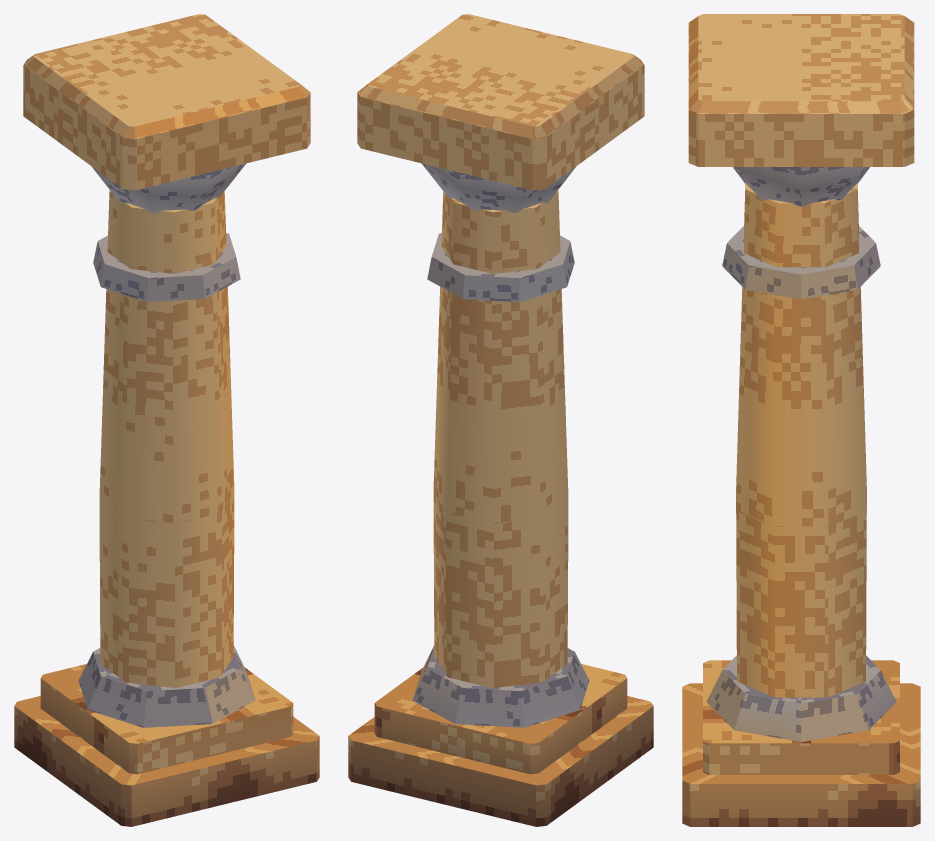
The model's file is ruin.column.glb.
3 renders of one model, left to right at view 1: azimuth 30°, elevation 25°; view 2: azimuth 150°, elevation 25°; view 3: azimuth 270°, elevation 25°, orthographic. The views are drawn at different scales.
Parts seen in each view (by area): view 1: kit_shaft, kit_capital, kit_plinth, kit_base, kit_ring; view 2: kit_shaft, kit_capital, kit_plinth, kit_base, kit_ring; view 3: kit_shaft, kit_capital, kit_plinth, kit_base, kit_ring.
Boxes of the visible parts, x1=… form: kit_shaft: x1=99, y1=191, x2=234, y2=688; kit_capital: x1=23, y1=14, x2=310, y2=213; kit_plinth: x1=14, y1=664, x2=319, y2=826; kit_base: x1=78, y1=645, x2=255, y2=727; kit_ring: x1=93, y1=233, x2=240, y2=302; kit_shaft: x1=433, y1=191, x2=568, y2=688; kit_capital: x1=357, y1=14, x2=644, y2=213; kit_plinth: x1=348, y1=664, x2=653, y2=826; kit_base: x1=412, y1=645, x2=589, y2=727; kit_ring: x1=427, y1=233, x2=574, y2=302; kit_shaft: x1=736, y1=184, x2=866, y2=697; kit_capital: x1=688, y1=14, x2=914, y2=206; kit_plinth: x1=682, y1=660, x2=920, y2=826; kit_base: x1=706, y1=655, x2=896, y2=741; kit_ring: x1=722, y1=226, x2=880, y2=299.
Size of the model in its own units: 1.5 by 5 by 1.5.
Materials: 3 (3 with a texture image).
